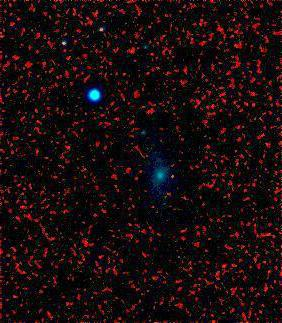star: (158, 160, 188, 190)
